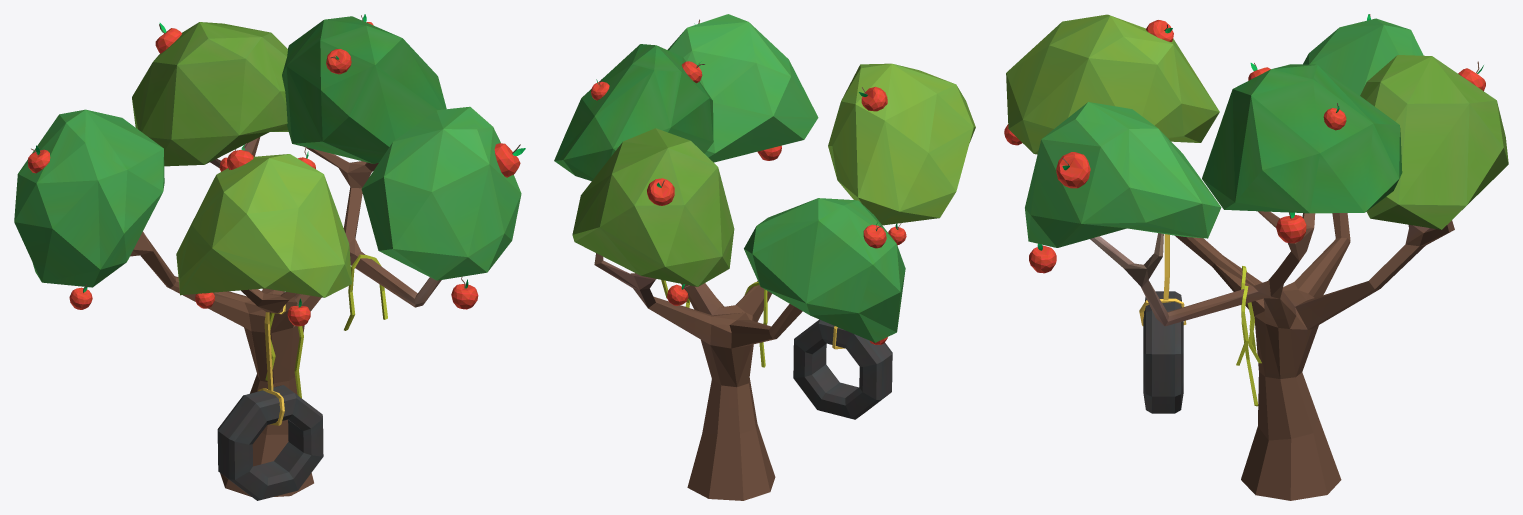
The model's file is tree_fruit_a.glb.
3 renders of one model, left to right at view 1: azimuth 30°, elevation 25°; view 2: azimuth 150°, elevation 25°; view 3: azimuth 270°, elevation 25°, orthographic. The views are drawn at different scales.
Visible parts, largest first — view 1: llanta_0, Sphere.001_0; view 2: llanta_0, Sphere.001_0; view 3: llanta_0, Sphere.001_0.
Boxes of the visible parts, <box> form: llanta_0: <box>14,16,521,500</box>; Sphere.001_0: <box>28,14,525,326</box>; llanta_0: <box>554,14,975,500</box>; Sphere.001_0: <box>591,19,906,344</box>; llanta_0: <box>1006,14,1508,500</box>; Sphere.001_0: <box>1004,14,1485,273</box>.
Bounding box in the file's own units: 9.02 × 9.8 × 9.82.
1 material, 1 textured.
